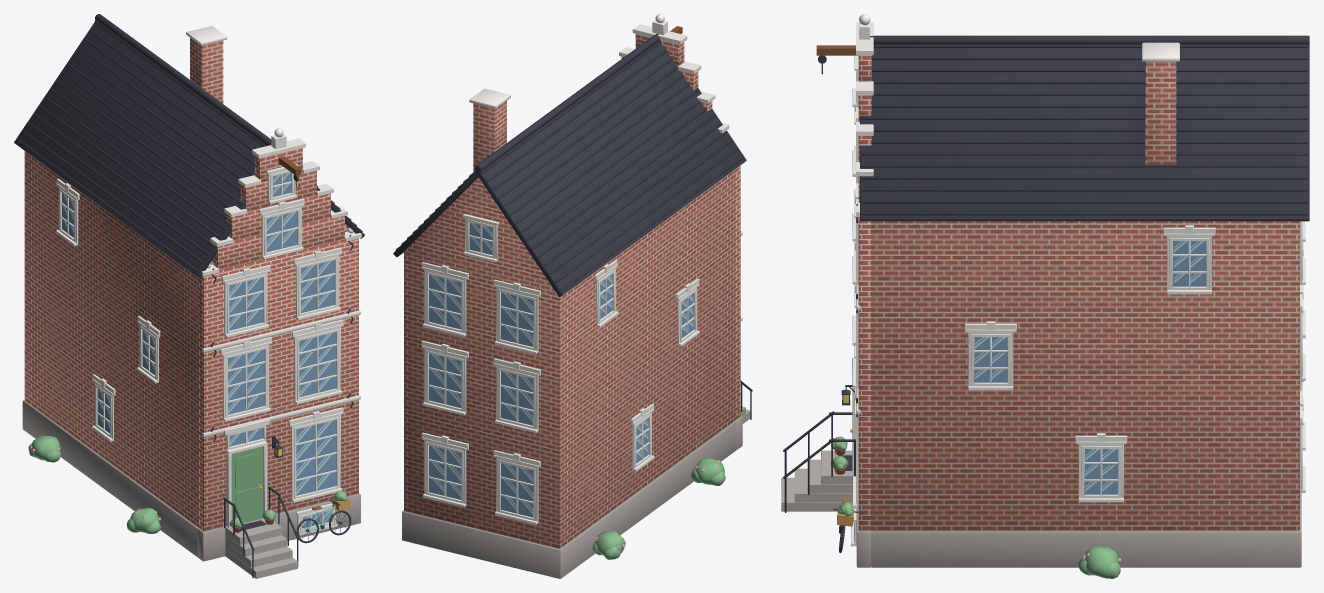
File: dutch-canal-house.glb
3 renders of one model, left to right at view 1: azimuth 30°, elevation 25°; view 2: azimuth 150°, elevation 25°; view 3: azimuth 270°, elevation 25°, orthographic. The views are drawn at different scales.
Parts seen in each view (by area): view 1: dutch-canal-house_body, dutch-canal-house_details, dutch-canal-house_facade, dutch-canal-house_glints, dutch-canal-house_door_l, dutch-canal-house_plants, dutch-canal-house_frame, dutch-canal-house_details_flat; view 2: dutch-canal-house_body, dutch-canal-house_details, dutch-canal-house_glints, dutch-canal-house_facade, dutch-canal-house_plants; view 3: dutch-canal-house_body, dutch-canal-house_details, dutch-canal-house_facade, dutch-canal-house_plants, dutch-canal-house_glints.
Boxes of the visible parts, bbox=[...] form: dutch-canal-house_body: bbox=[14, 14, 364, 556]; dutch-canal-house_details: bbox=[56, 128, 361, 578]; dutch-canal-house_facade: bbox=[197, 148, 360, 561]; dutch-canal-house_glints: bbox=[63, 172, 332, 525]; dutch-canal-house_door_l: bbox=[231, 446, 262, 522]; dutch-canal-house_plants: bbox=[28, 435, 347, 533]; dutch-canal-house_frame: bbox=[226, 441, 267, 527]; dutch-canal-house_details_flat: bbox=[296, 499, 351, 543]; dutch-canal-house_body: bbox=[393, 33, 746, 578]; dutch-canal-house_details: bbox=[421, 14, 752, 524]; dutch-canal-house_glints: bbox=[431, 222, 693, 514]; dutch-canal-house_facade: bbox=[621, 34, 742, 449]; dutch-canal-house_plants: bbox=[592, 457, 725, 559]; dutch-canal-house_body: bbox=[860, 35, 1309, 567]; dutch-canal-house_details: bbox=[781, 14, 1305, 546]; dutch-canal-house_facade: bbox=[856, 55, 871, 567]; dutch-canal-house_plants: bbox=[831, 436, 1121, 578]; dutch-canal-house_glints: bbox=[975, 241, 1204, 491].
Size of the model in its own units: 6.83 by 12.65 by 11.97.
Materials: 20 (2 with a texture image).
